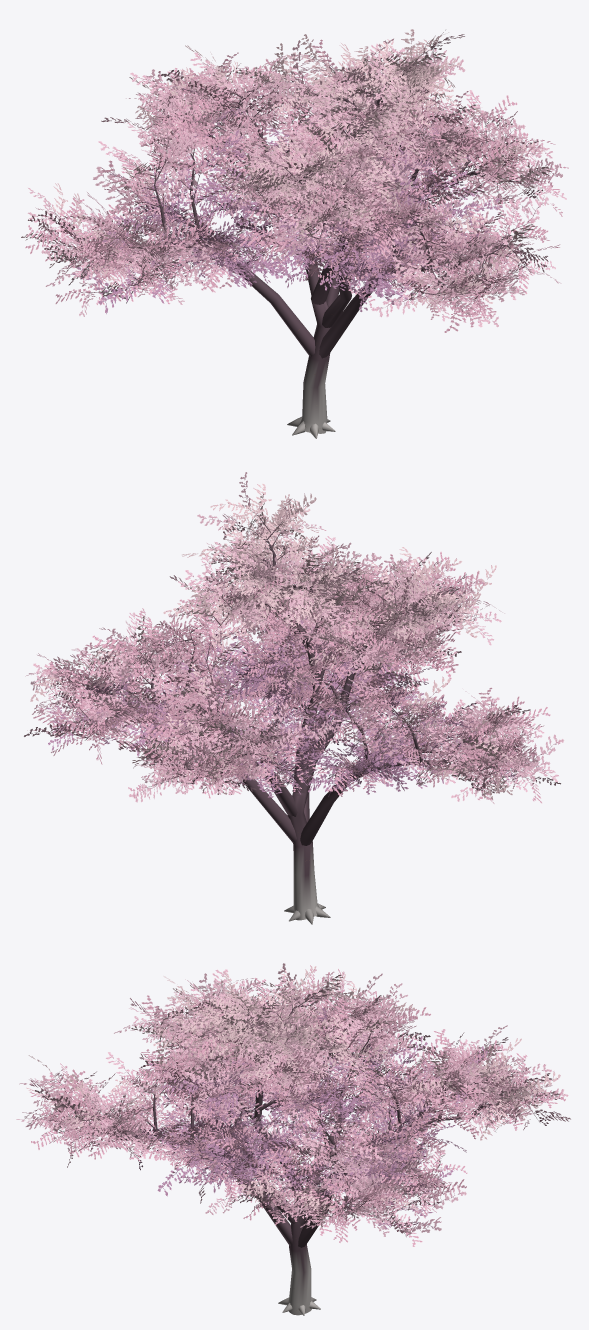
File: sakura_tree_as06_anime.glb
3 views of the same model, one above another, from view 1: azimuth 30°, elevation 25°; view 2: azimuth 150°, elevation 25°; view 3: azimuth 270°, elevation 25° (orthographic). The views are drawn at different scales.
Parts seen in each view (by area): view 1: AS06_AnimeFlowerSprays, AS06_AnimeBark, AS06_AnimeBranches; view 2: AS06_AnimeFlowerSprays, AS06_AnimeBark, AS06_AnimeBranches; view 3: AS06_AnimeFlowerSprays, AS06_AnimeBark, AS06_AnimeBranches.
Part boxes in pixels (x1,y1,x2,y2): AS06_AnimeFlowerSprays: [21, 29, 568, 332]; AS06_AnimeBark: [167, 107, 448, 438]; AS06_AnimeBranches: [45, 46, 538, 432]; AS06_AnimeFlowerSprays: [24, 472, 563, 803]; AS06_AnimeBark: [178, 602, 444, 924]; AS06_AnimeBranches: [49, 506, 532, 893]; AS06_AnimeFlowerSprays: [16, 963, 570, 1246]; AS06_AnimeBark: [120, 1048, 461, 1315]; AS06_AnimeBranches: [56, 986, 538, 1310].
Bounding box in the file's own units: 10.42 × 7.79 × 10.68.
Materials: 3 (1 with a texture image).
